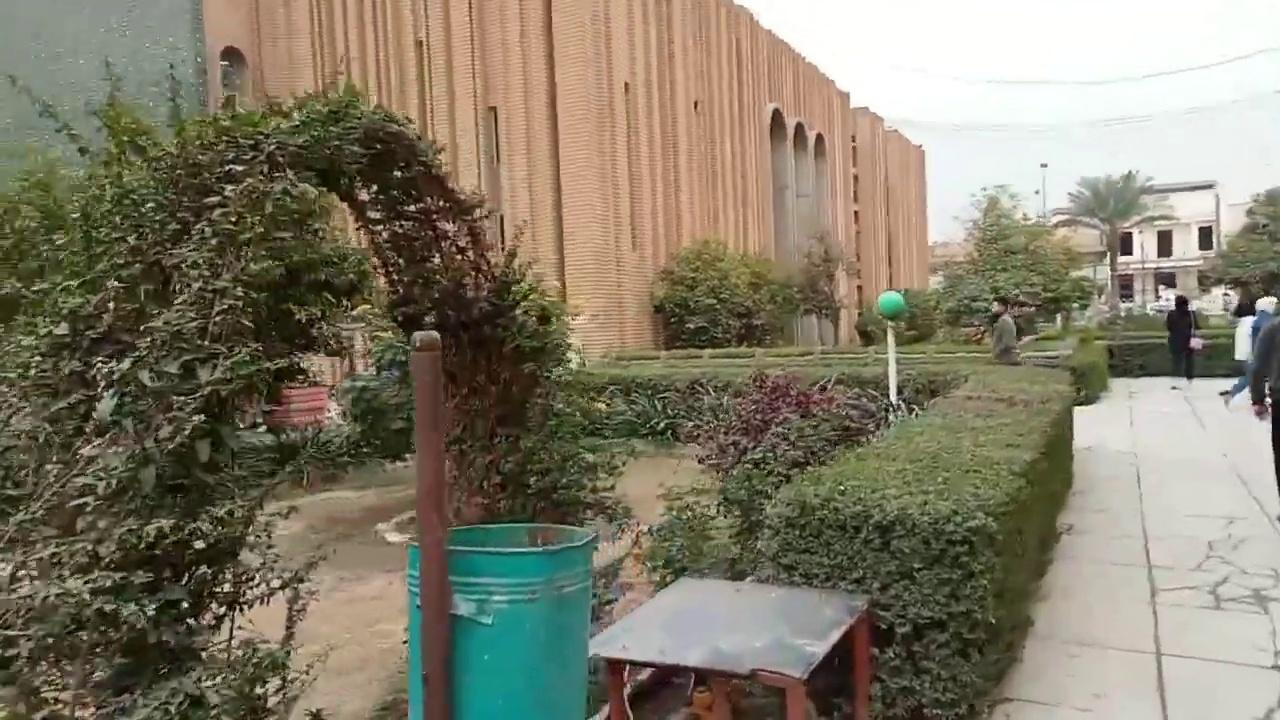person: (1222, 295, 1278, 410), (1249, 314, 1279, 496), (1164, 294, 1198, 384), (988, 296, 1023, 364)
tree: (0, 54, 487, 718), (355, 179, 590, 528), (929, 188, 1094, 338), (649, 235, 792, 350), (1051, 167, 1163, 312), (1199, 184, 1279, 311), (787, 228, 860, 347)
